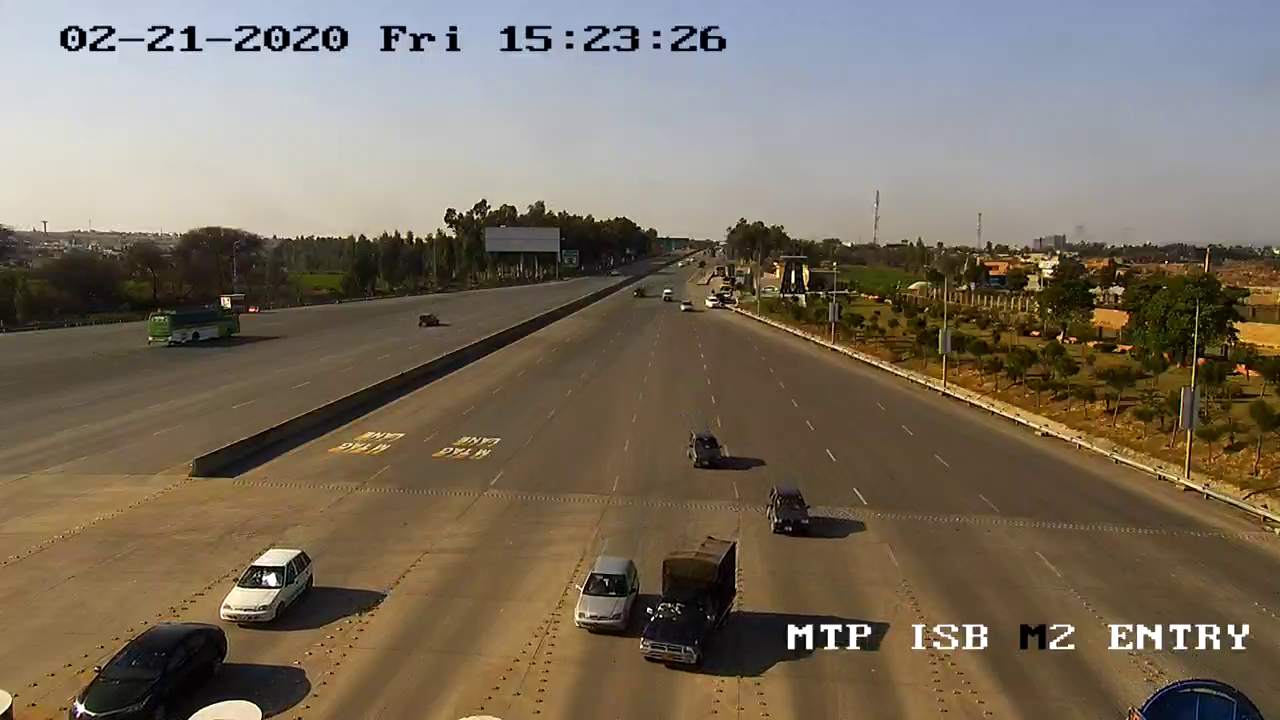f1: (633, 532, 747, 676), (212, 539, 322, 634), (567, 554, 642, 643), (760, 480, 821, 543)
